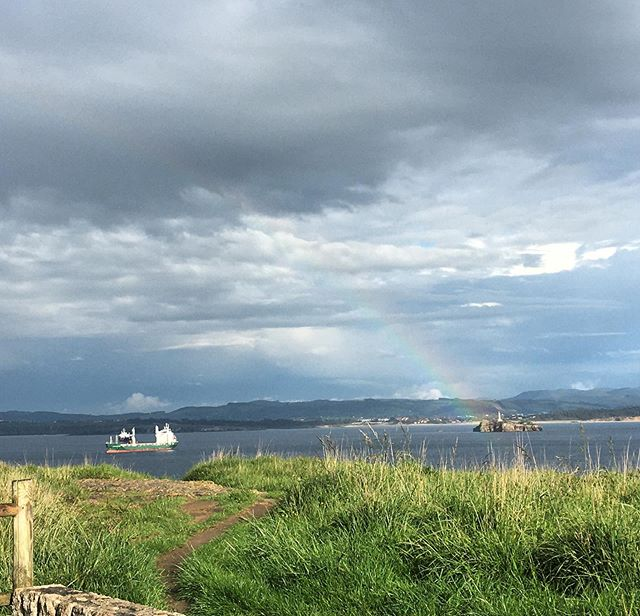boat: (95, 419, 182, 457)
grass: (58, 465, 640, 616)
sea: (1, 416, 638, 463)
sky: (12, 1, 640, 388)
